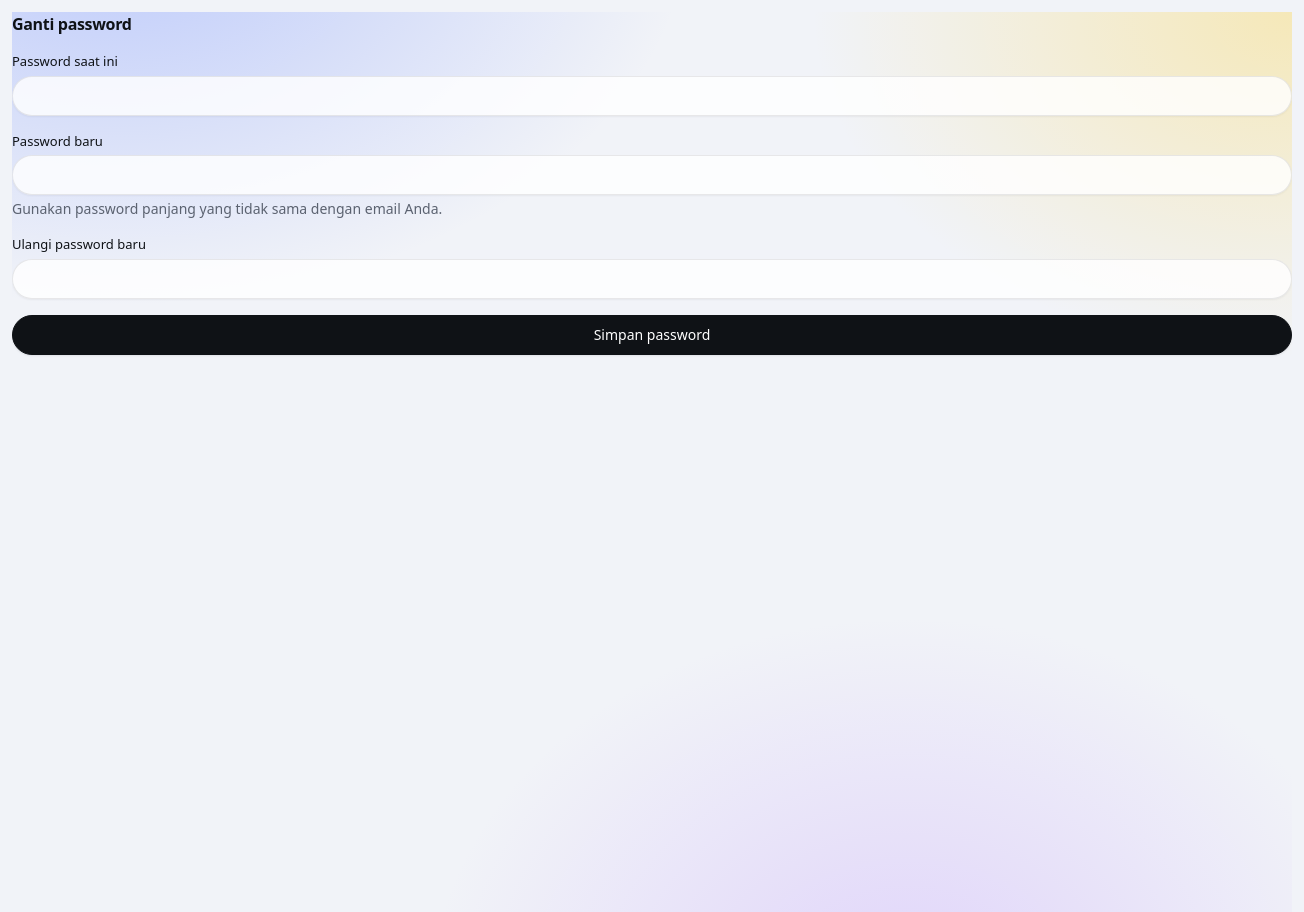
ChangePasswordView › shows conflict message
The width and height of the screenshot is (1304, 912).
Type "sementara-1" into the password field labelled "Password saat ini" at (652, 96), box x1=12 y1=76 x2=1292 y2=116
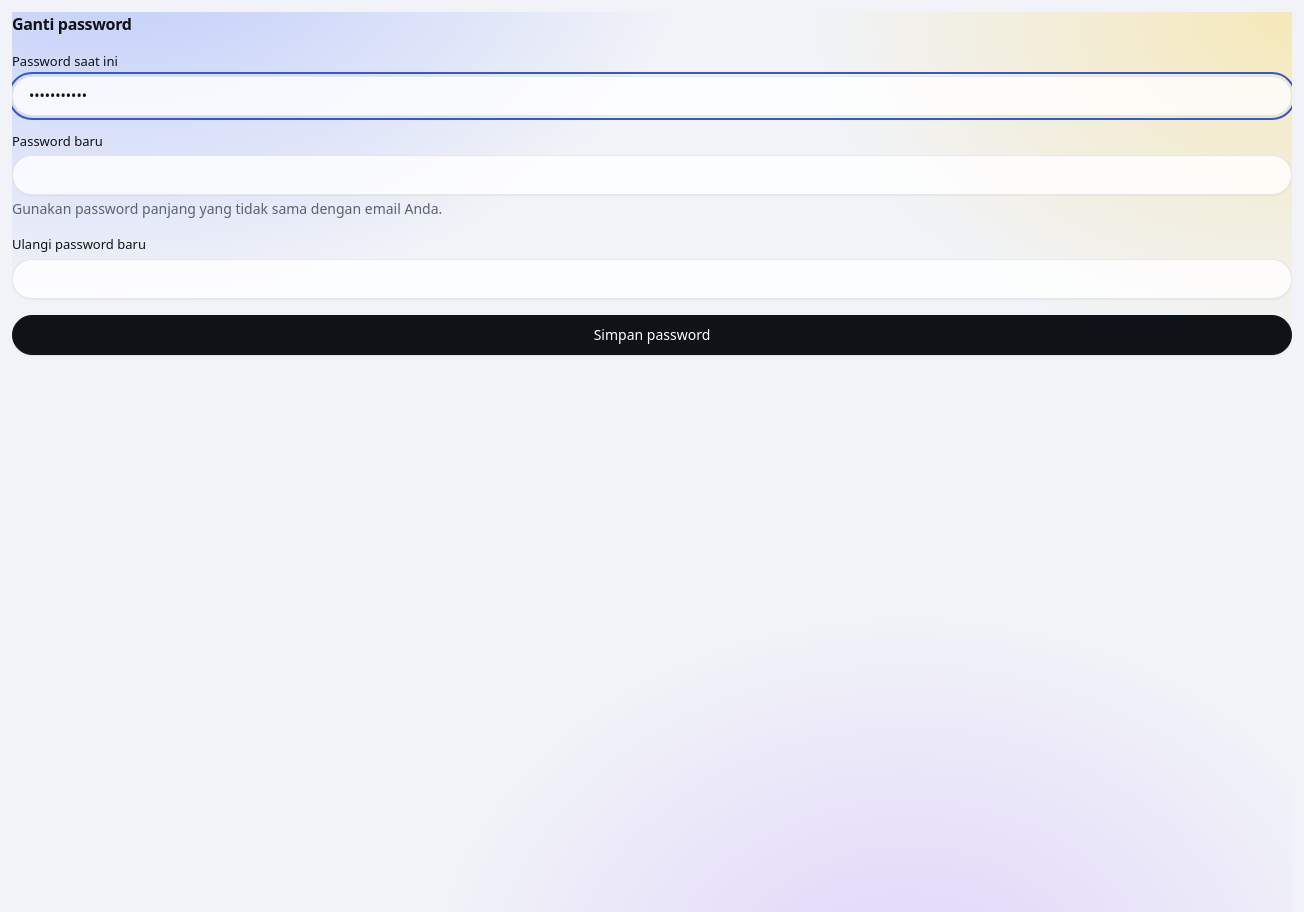
Type "baru-sangat-rahasia" into the password field labelled "Password baru" at (652, 175), box x1=12 y1=155 x2=1292 y2=195
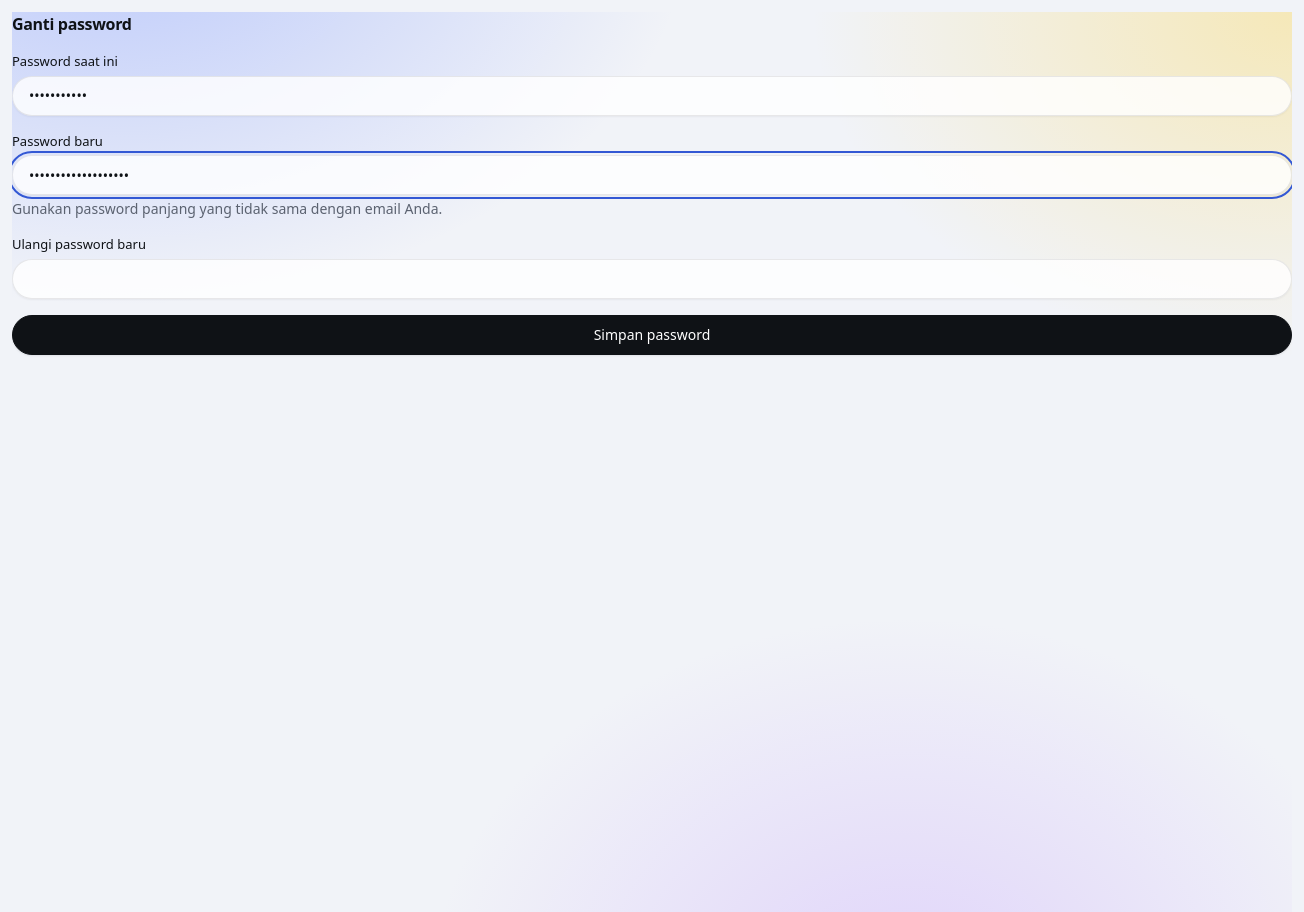
Type "baru-sangat-rahasia" into the password field labelled "Ulangi password baru" at (652, 278), box x1=12 y1=258 x2=1292 y2=298
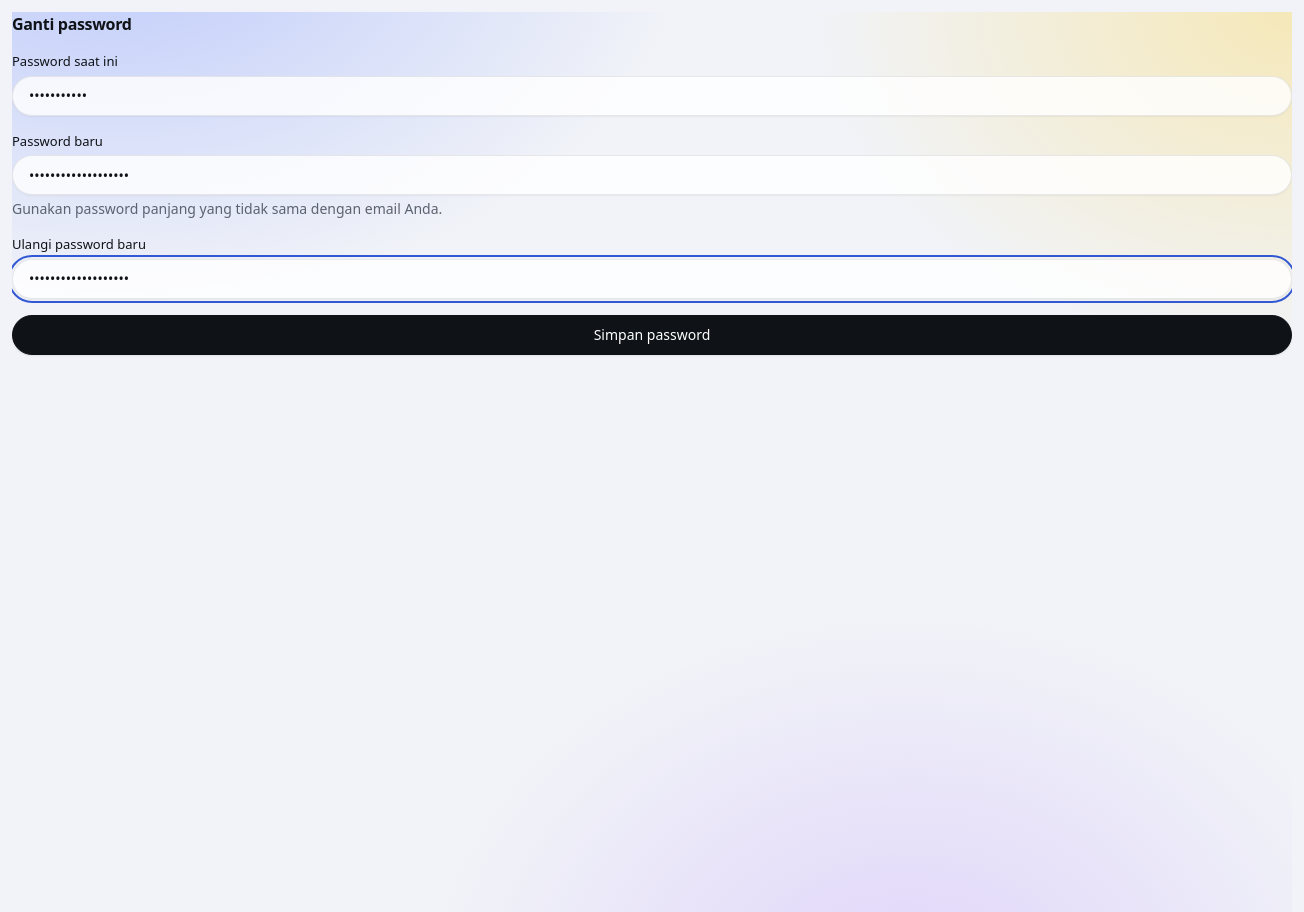
Click the button "Simpan password" at (652, 334), box x1=12 y1=314 x2=1292 y2=354
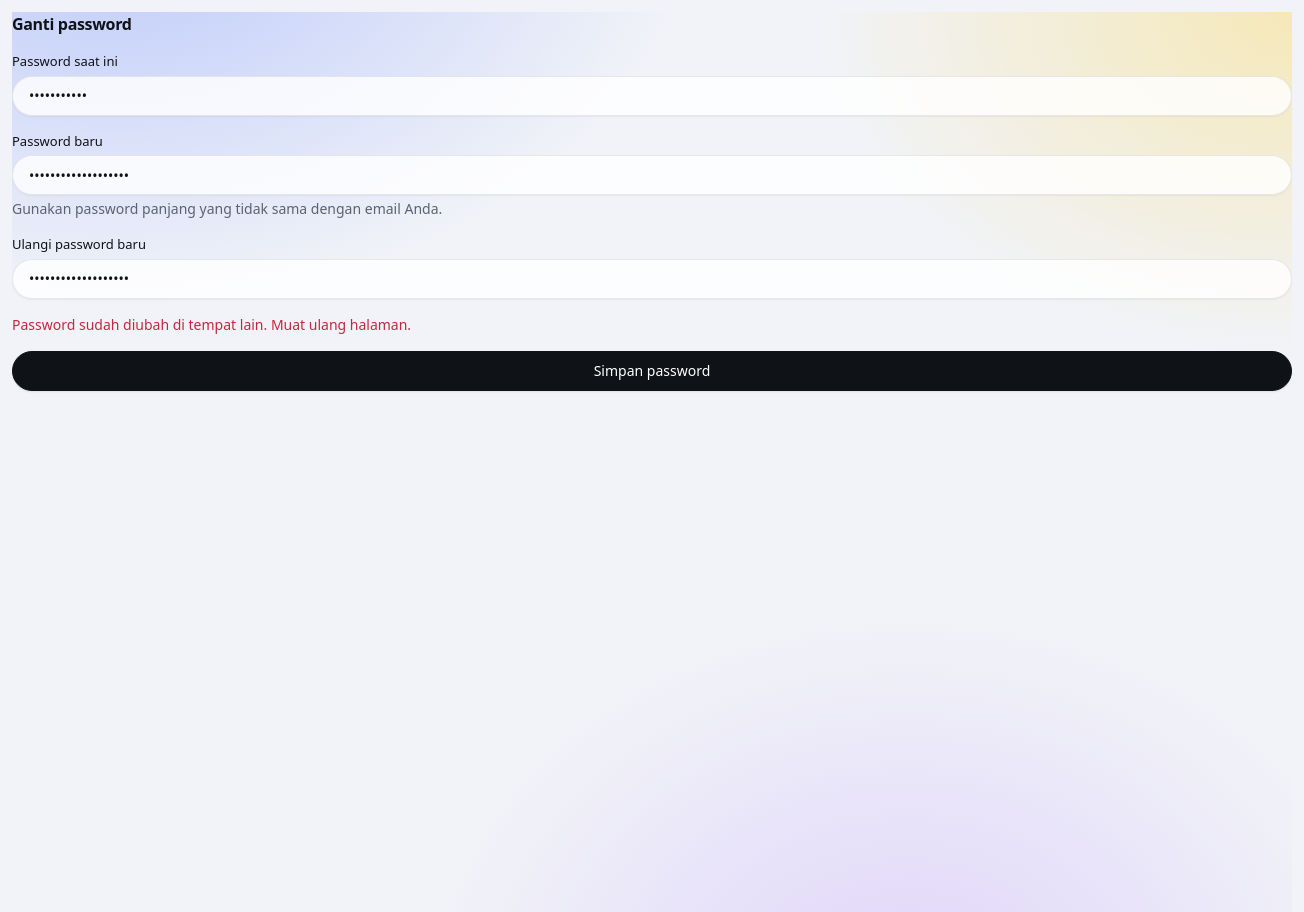
Expected: the message shows "Muat ulang", x1=12 y1=314 x2=411 y2=334
